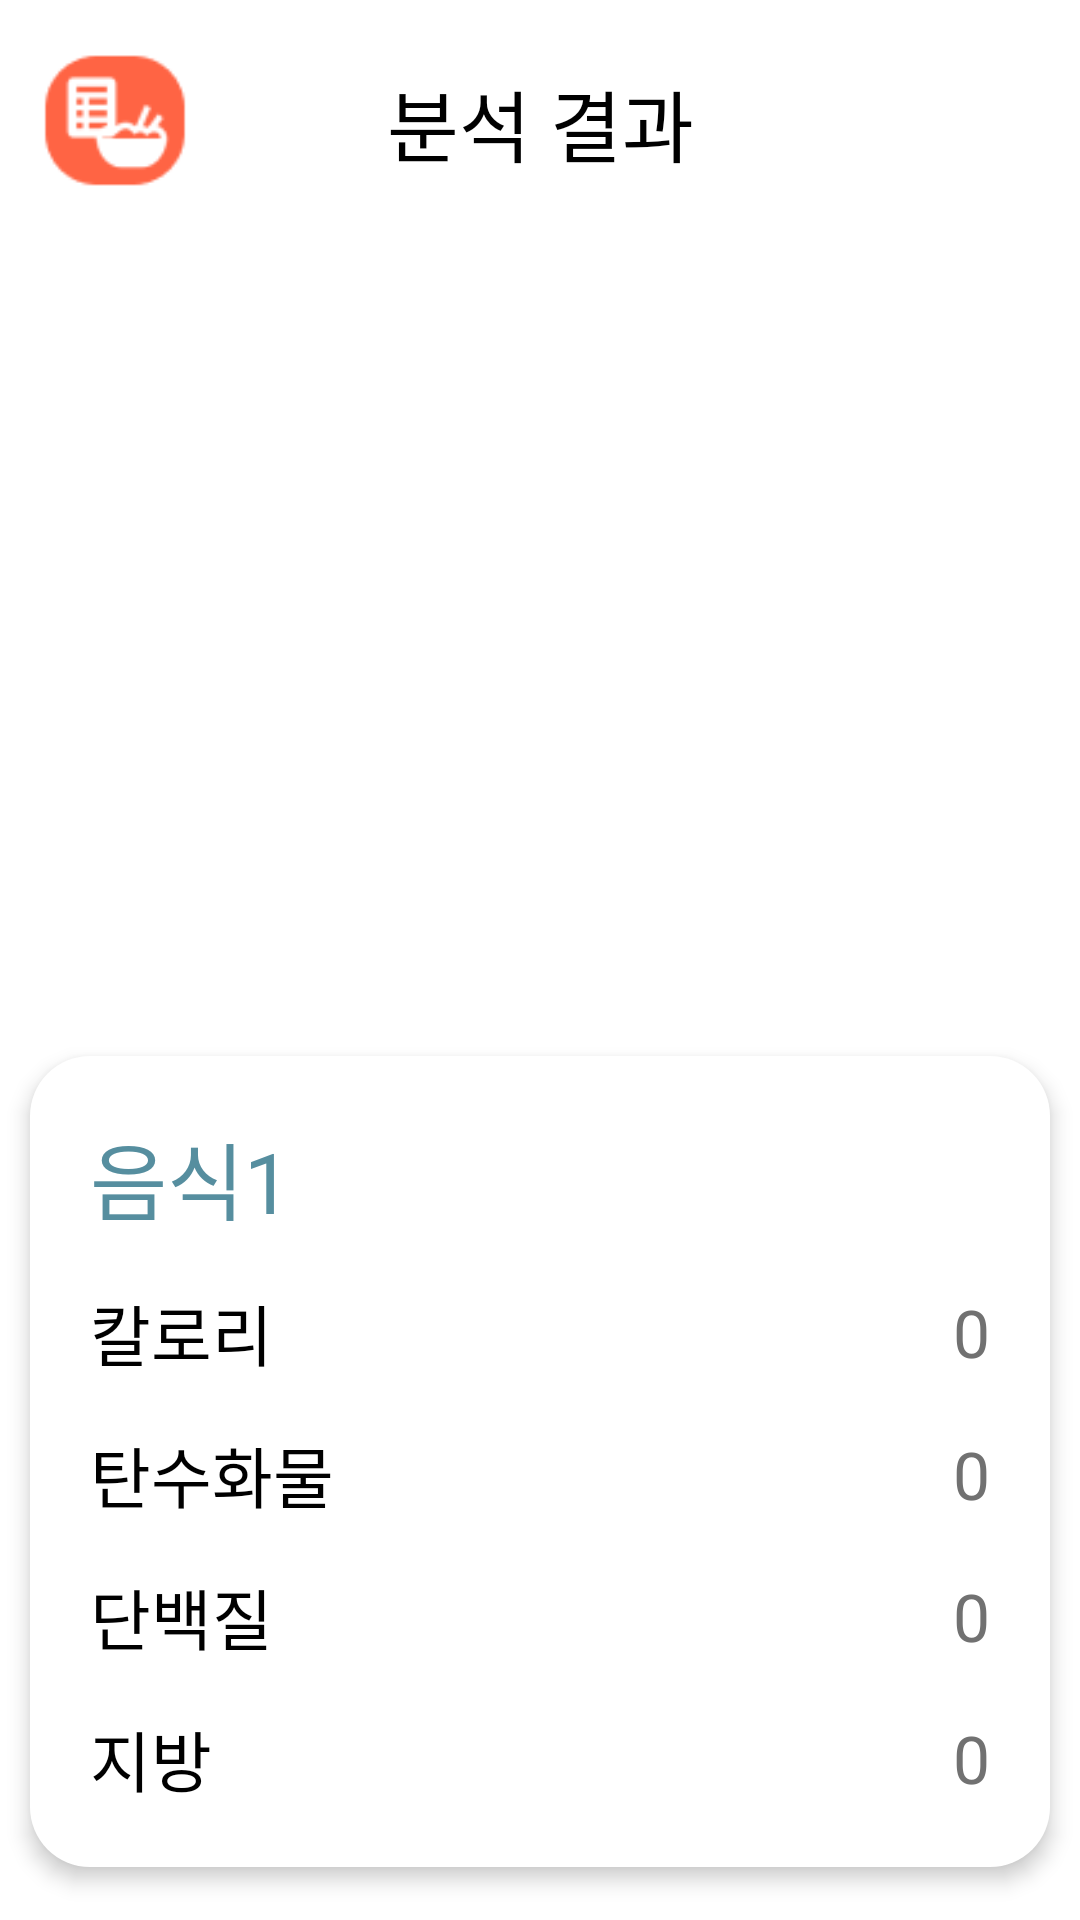

Locate icon controls on the screen. Image size 1080*1920, boxes as (x1, y1, x2, y2).
app: (44, 55, 185, 186)
